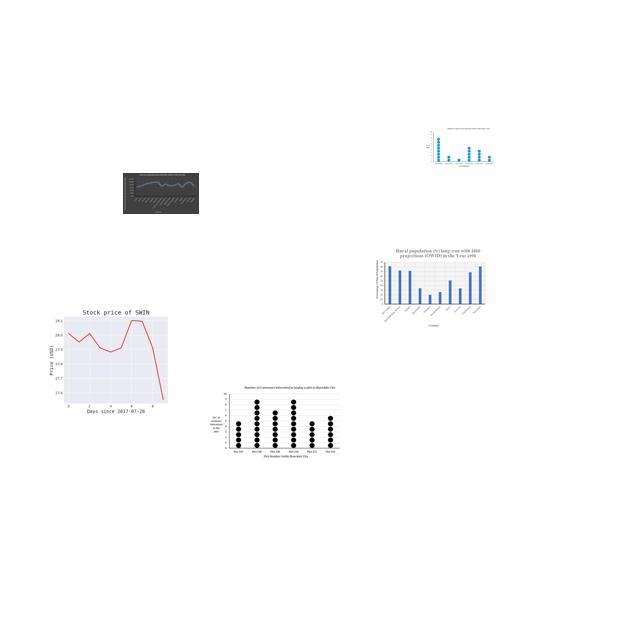Graph: (39, 303, 189, 416), (208, 385, 341, 460), (374, 247, 487, 328), (123, 173, 199, 214), (425, 127, 494, 168)
